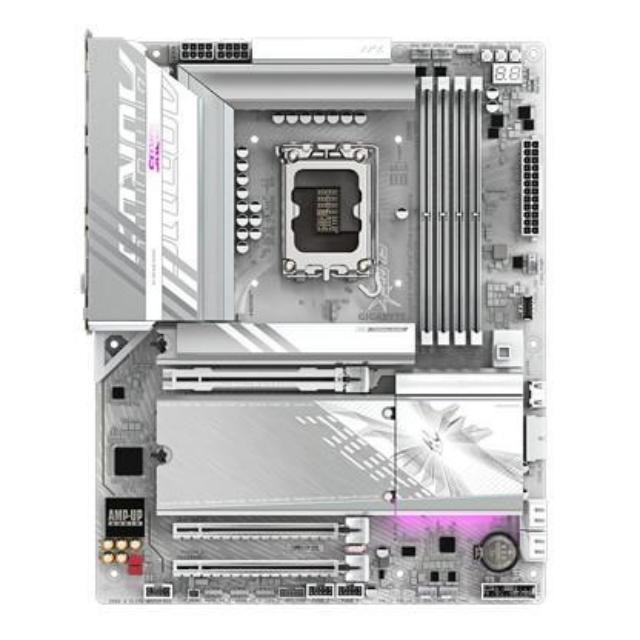Mainboard: (86, 27, 548, 613)
